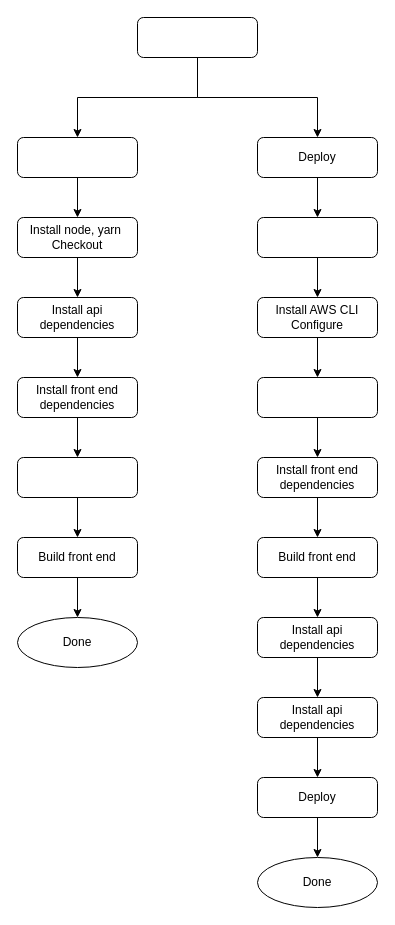
The diagram is 395 pixels wide and 925 high, and some of its shapes have lost their labels. Each missing label, with the centre of its shape:
"Build" goes at (77,157).
"Build api" goes at (77,477).
"Install EB CLI" goes at (317,397).
"Install node Checkout" goes at (317,237).
"Start Pipeline" goes at (197,37).
